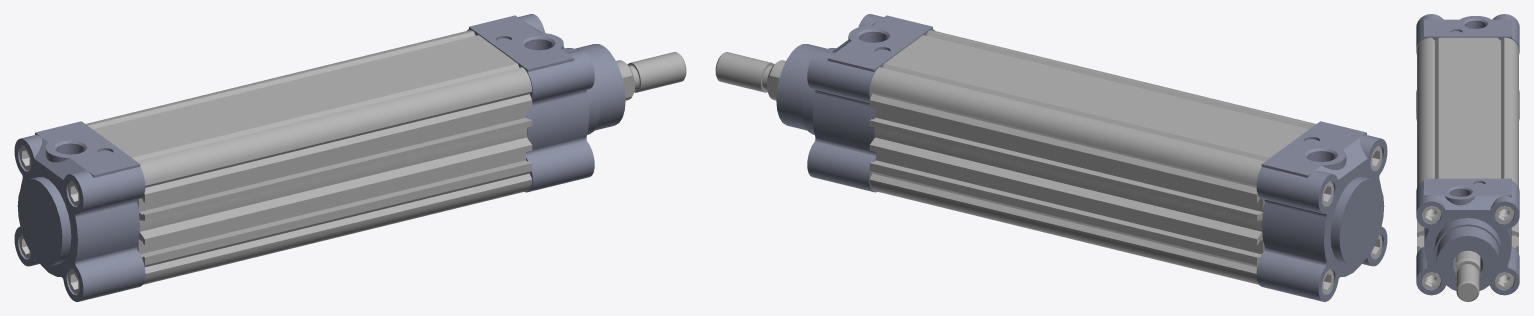
The picture shows the model from 3 angles, left to right: view 1: azimuth 30°, elevation 25°; view 2: azimuth 150°, elevation 25°; view 3: azimuth 270°, elevation 25°; orthographic projection. The views are drawn at different scales.
Visible parts, largest first — view 1: TYPE_A_2_FLAT_40-126-145.5-BA_2, ISO_15552_STD_2FL_DI40-121-HR_3, ISO_15552_STD_2FL_DI40-HL_1, TYPE_A_40121126-Rod_4; view 2: TYPE_A_2_FLAT_40-126-145.5-BA_2, ISO_15552_STD_2FL_DI40-121-HR_3, ISO_15552_STD_2FL_DI40-HL_1, TYPE_A_40121126-Rod_4; view 3: TYPE_A_2_FLAT_40-126-145.5-BA_2, ISO_15552_STD_2FL_DI40-HL_1, ISO_15552_STD_2FL_DI40-121-HR_3, TYPE_A_40121126-Rod_4.
Part boxes in pixels (x1,y1,x2,y2): TYPE_A_2_FLAT_40-126-145.5-BA_2: (86, 30, 532, 284); ISO_15552_STD_2FL_DI40-121-HR_3: (14, 121, 145, 301); ISO_15552_STD_2FL_DI40-HL_1: (467, 14, 625, 192); TYPE_A_40121126-Rod_4: (616, 52, 686, 100); TYPE_A_2_FLAT_40-126-145.5-BA_2: (869, 30, 1315, 284); ISO_15552_STD_2FL_DI40-121-HR_3: (1256, 121, 1387, 301); ISO_15552_STD_2FL_DI40-HL_1: (776, 14, 934, 192); TYPE_A_40121126-Rod_4: (715, 52, 785, 100); TYPE_A_2_FLAT_40-126-145.5-BA_2: (1417, 37, 1518, 253); ISO_15552_STD_2FL_DI40-HL_1: (1416, 178, 1519, 295); ISO_15552_STD_2FL_DI40-121-HR_3: (1416, 14, 1519, 120); TYPE_A_40121126-Rod_4: (1455, 250, 1480, 301).
Size of the model in its own units: 289 by 54 by 54.
